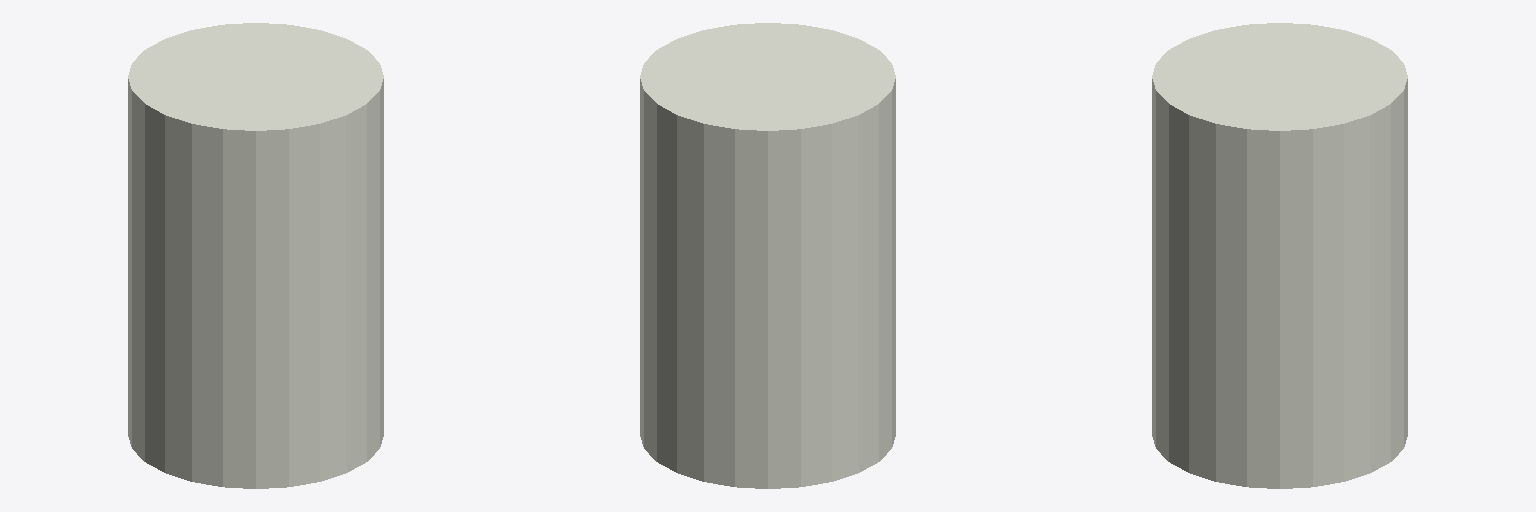
Rendered from glassoutside.obj.
3 views of the same model, side by side, from view 1: azimuth 30°, elevation 25°; view 2: azimuth 150°, elevation 25°; view 3: azimuth 270°, elevation 25° (orthographic).
Visible parts, largest first — view 1: group_2.004_ID154; view 2: group_2.004_ID154; view 3: group_2.004_ID154.
Boxes of the visible parts, <box> form: group_2.004_ID154: <box>128,23,383,488</box>; group_2.004_ID154: <box>640,23,895,488</box>; group_2.004_ID154: <box>1152,23,1407,488</box>.
Size of the model in its own units: 0.0236 by 0.0364 by 0.0236.